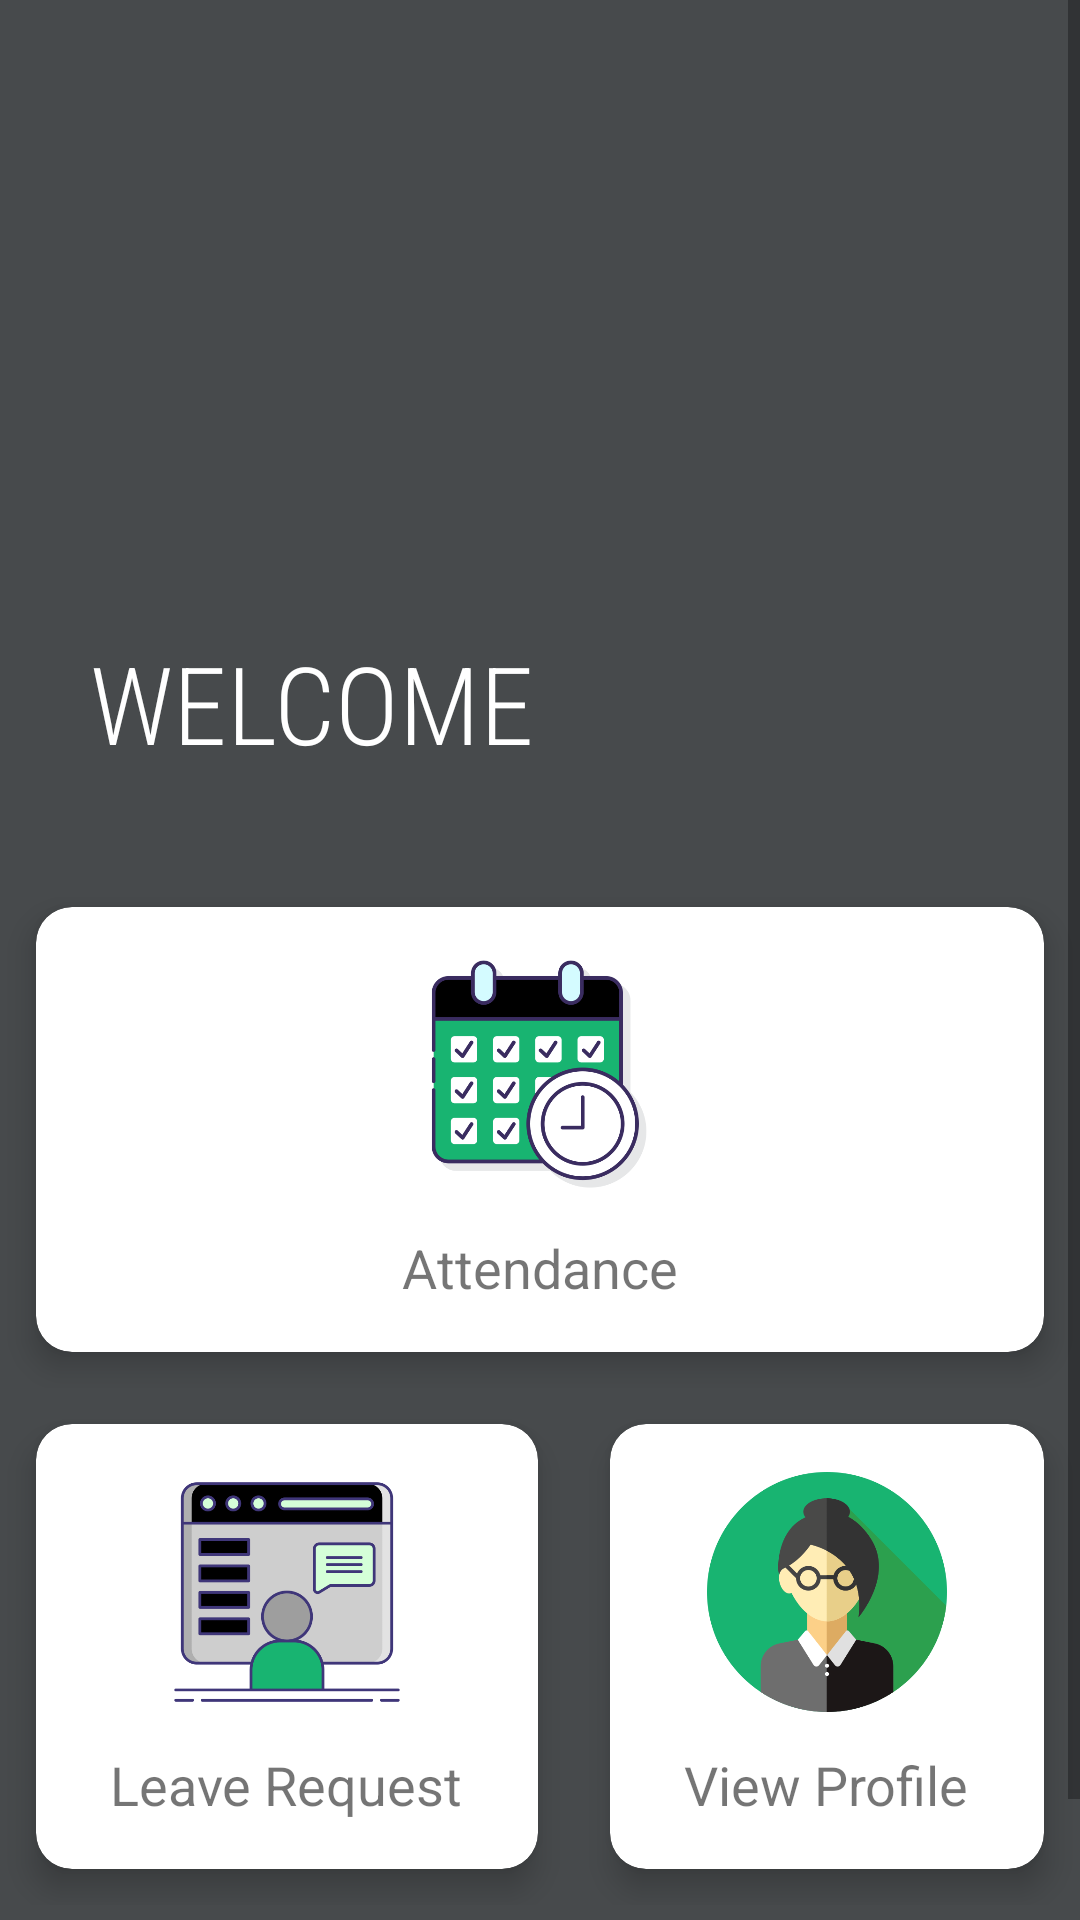

Named icons in this screenshot (1080x1920) and their centers, (x,y):
teacher: (827,1592)
